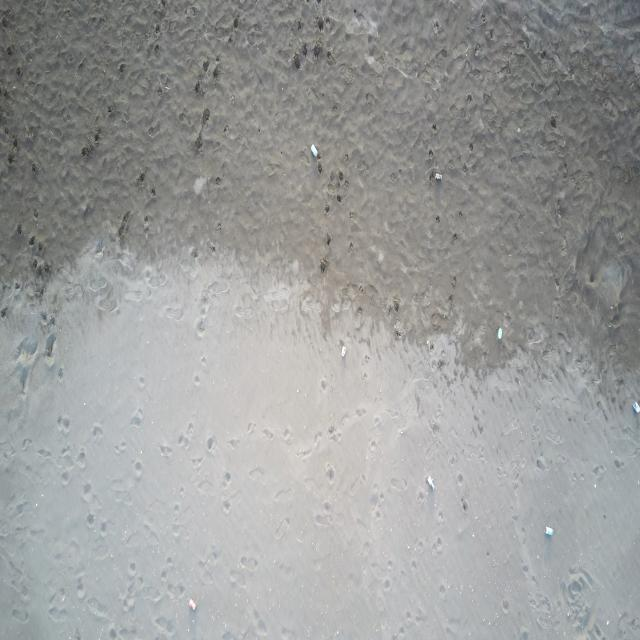Garbage: (193, 176, 206, 193), (187, 597, 196, 609), (311, 143, 318, 158), (632, 400, 639, 412), (427, 475, 433, 489), (496, 327, 502, 340), (340, 344, 346, 356), (544, 526, 552, 535), (435, 172, 441, 180)
